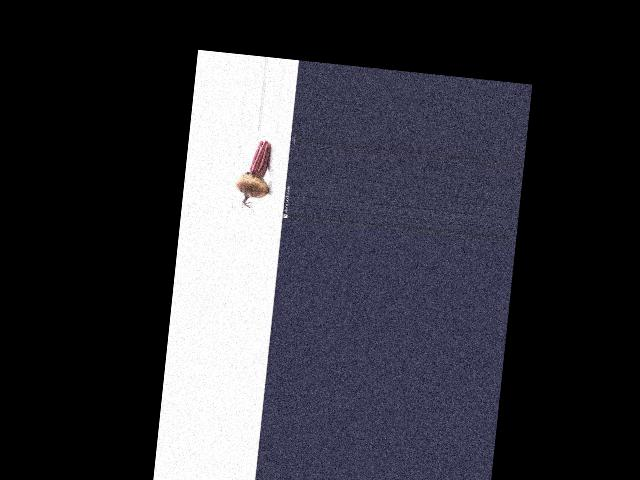beet: (233, 137, 273, 214)
